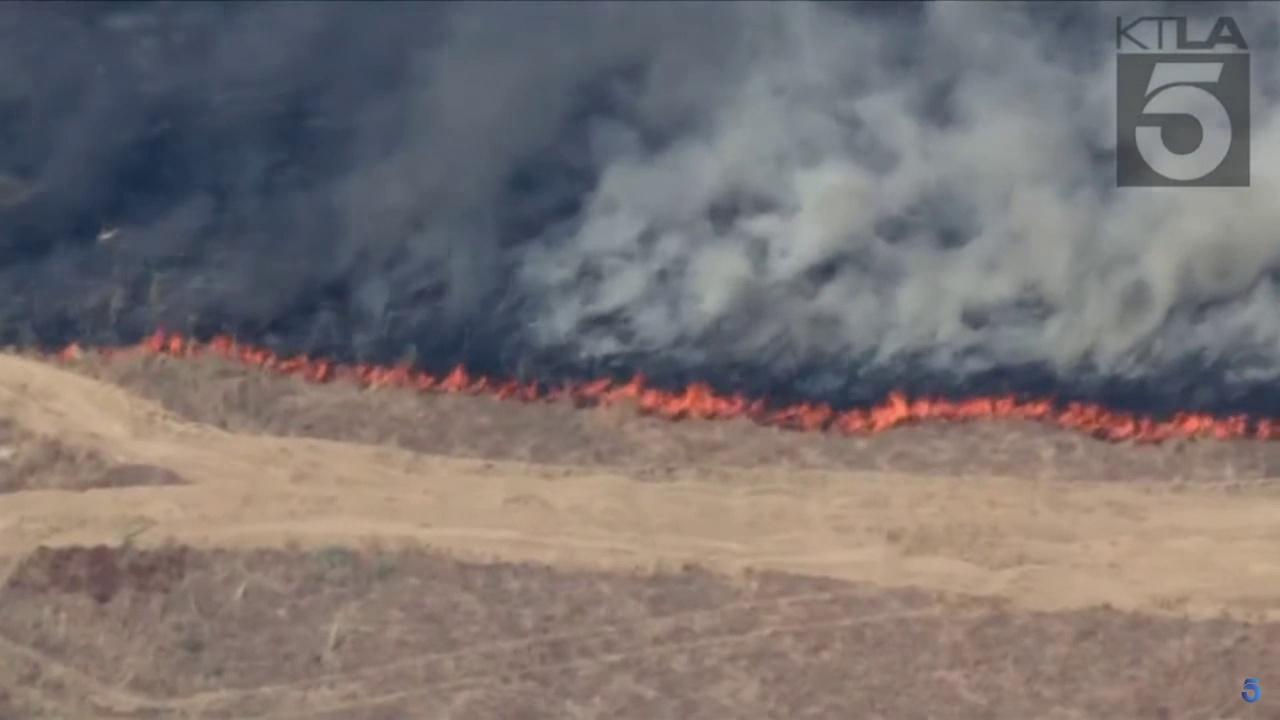fire: (139, 322, 1280, 447), (58, 339, 81, 365)
smoke: (0, 0, 1280, 398)
